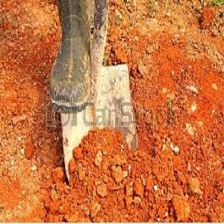clay_soil: (7, 48, 215, 218)
